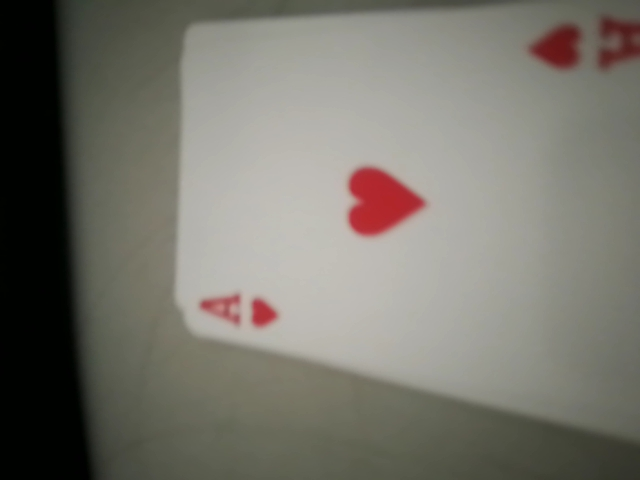hx a: (516, 0, 639, 98)
